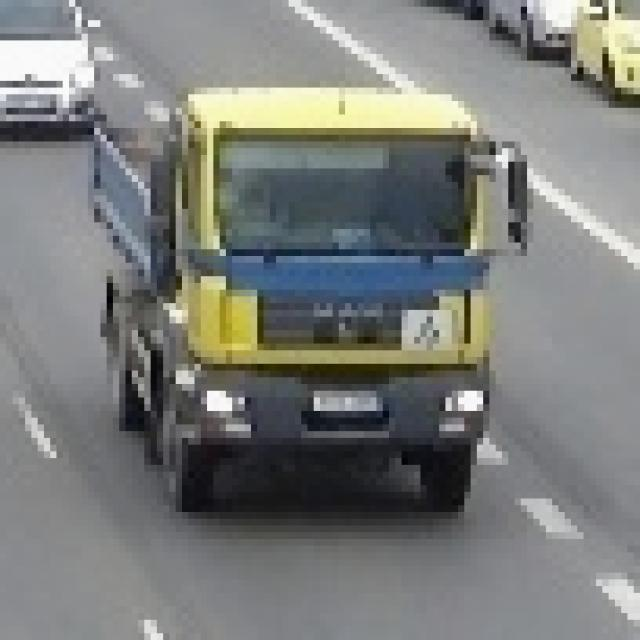truck: (83, 1, 528, 520)
